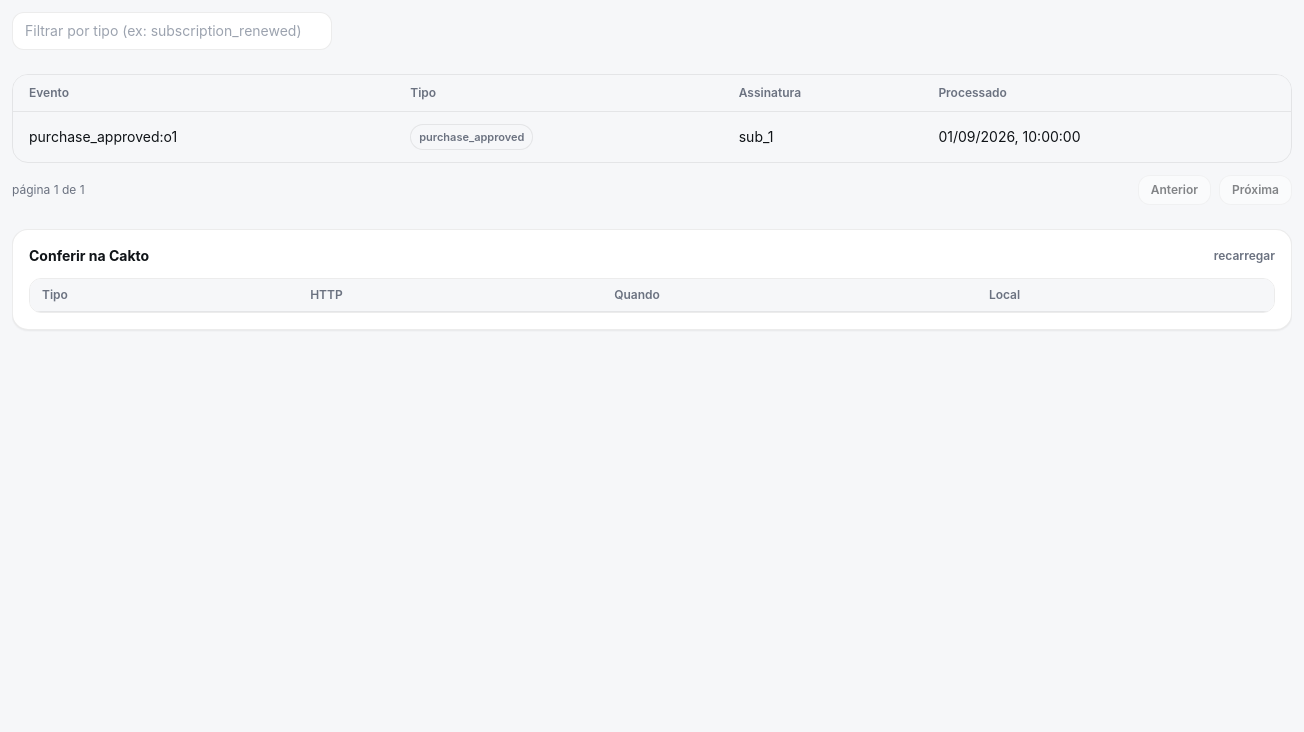
Test case: lista eventos e abrir um mostra o payload sem secret
This screenshot has width=1304, height=732.
Click the text "purchase_approved:o1": point(103, 136) [13,112,394,162]
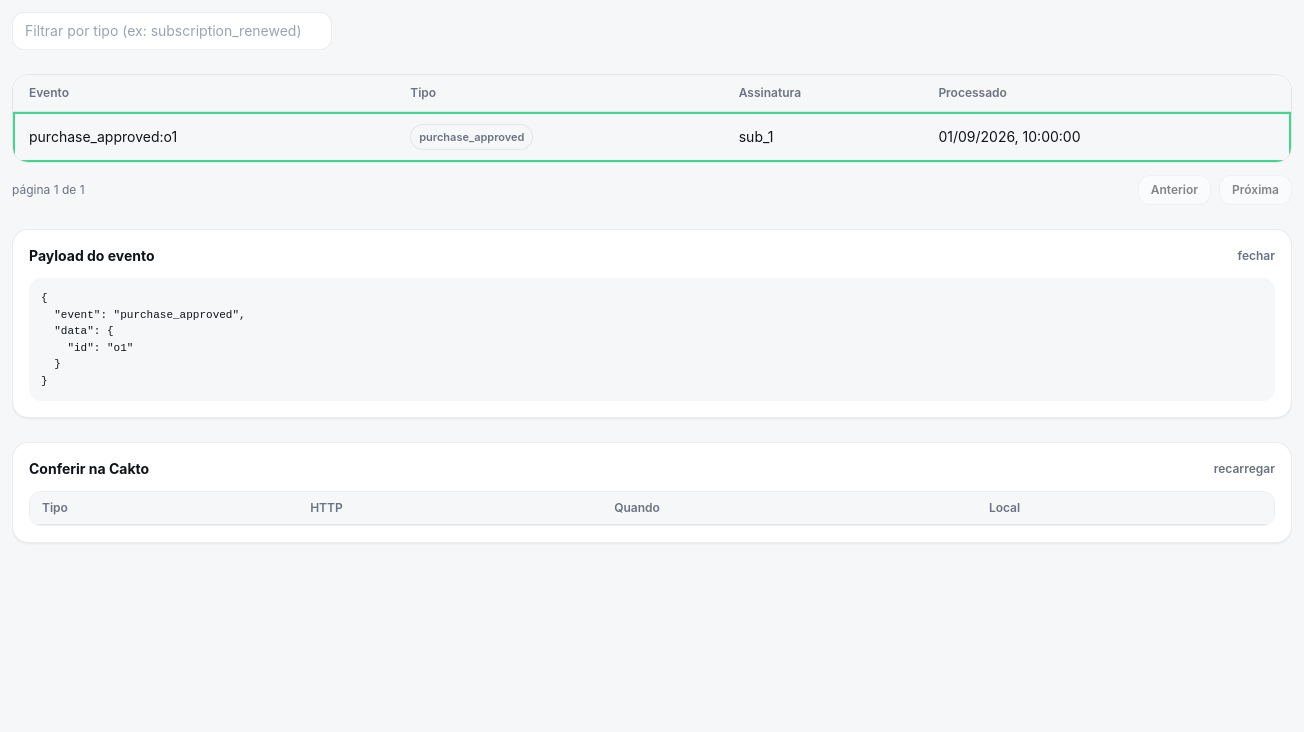
Expected: the text "{ \"event\": \"purchase_approved\", \"data\": { \"id\": \"o1\" } }" is shown, [29,278,1275,401]
